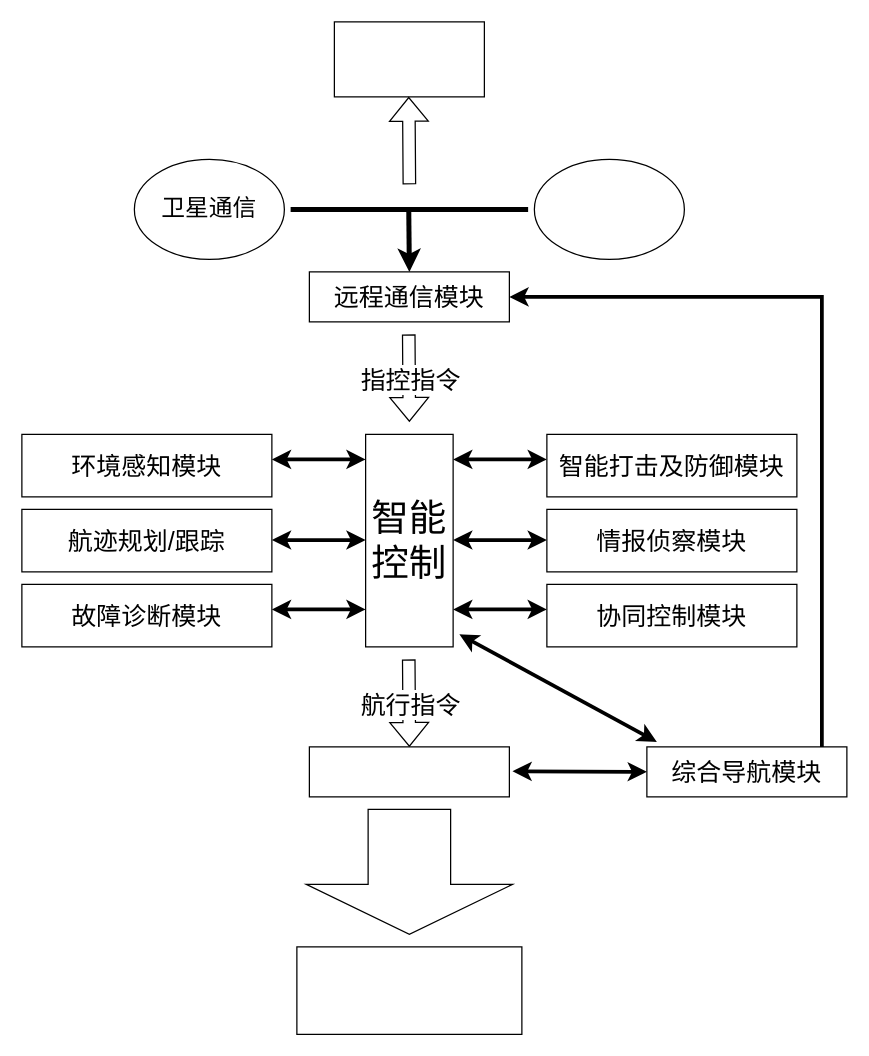
Some shapes in this 869 by 1056 pixel diagram are drawn without their labels. Here are the shapes that lost their labels. From the top down, the box of each, then its label:
(333, 21, 484, 97): 监控站
(533, 158, 684, 259): 无线电通信
(308, 746, 509, 797): 自动驾驶模块
(305, 808, 512, 934): 动力/操纵模块
(296, 946, 522, 1034): 无人艇平台 （载体模块）
